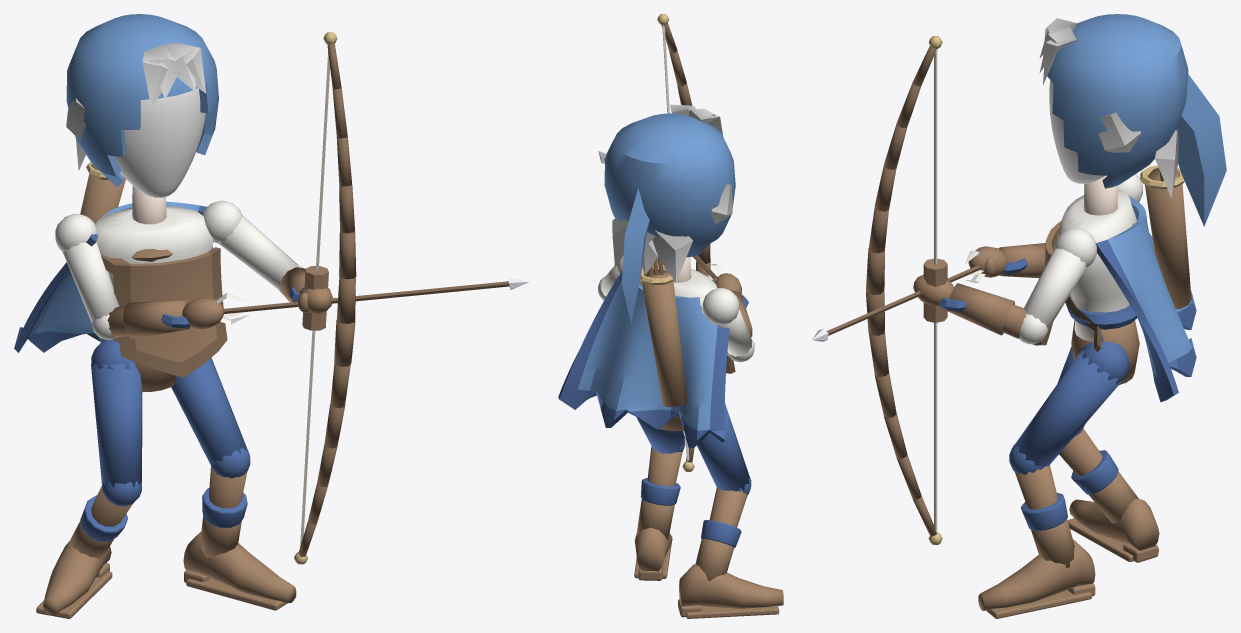
The model's file is archer.glb.
The picture shows the model from 3 angles, left to right: view 1: azimuth 30°, elevation 25°; view 2: azimuth 150°, elevation 25°; view 3: azimuth 270°, elevation 25°; orthographic projection. The views are drawn at different scales.
Parts seen in each view (by area): view 1: head, torso, fore_l, shin_l, shin_r, thigh_r, fore_r, thigh_l, cape, arm_r, arm_l, hips; view 2: head, cape, shin_r, torso, shin_l, thigh_r, arm_r, fore_l, fore_r, thigh_l, arm_l; view 3: head, fore_l, torso, shin_l, cape, shin_r, thigh_l, arm_l, fore_r, hips.
Boxes of the visible parts, box(x1,y1,x2,y2) form: head: box(66, 14, 218, 224); torso: box(80, 162, 227, 377); fore_l: box(278, 32, 356, 564); shin_l: box(183, 448, 296, 610); shin_r: box(36, 481, 141, 618); thigh_r: box(91, 339, 142, 487); fore_r: box(92, 277, 529, 339); thigh_l: box(171, 358, 246, 464); cape: box(14, 201, 212, 352); arm_r: box(55, 213, 119, 323); arm_l: box(202, 200, 298, 290); hips: box(113, 337, 175, 391); head: box(604, 104, 735, 324); cape: box(558, 271, 729, 448); shin_r: box(678, 478, 783, 618); torso: box(639, 257, 735, 406); shin_l: box(634, 436, 685, 580); thigh_r: box(697, 403, 750, 491); arm_r: box(702, 288, 752, 356); fore_l: box(598, 14, 710, 471); fore_r: box(598, 151, 754, 362); thigh_l: box(636, 417, 684, 453); arm_l: box(601, 256, 623, 296); head: box(1039, 14, 1226, 226); fore_l: box(866, 36, 1048, 544); torso: box(1032, 165, 1191, 352); shin_l: box(978, 443, 1095, 618); cape: box(1095, 196, 1196, 402); shin_r: box(1059, 428, 1159, 562); thigh_l: box(1014, 341, 1128, 468); arm_l: box(1024, 228, 1096, 329); fore_r: box(812, 243, 1045, 341); hips: box(1071, 320, 1139, 384).
Bounding box in the file's own units: 0.8033 × 1.28 × 0.8231.
